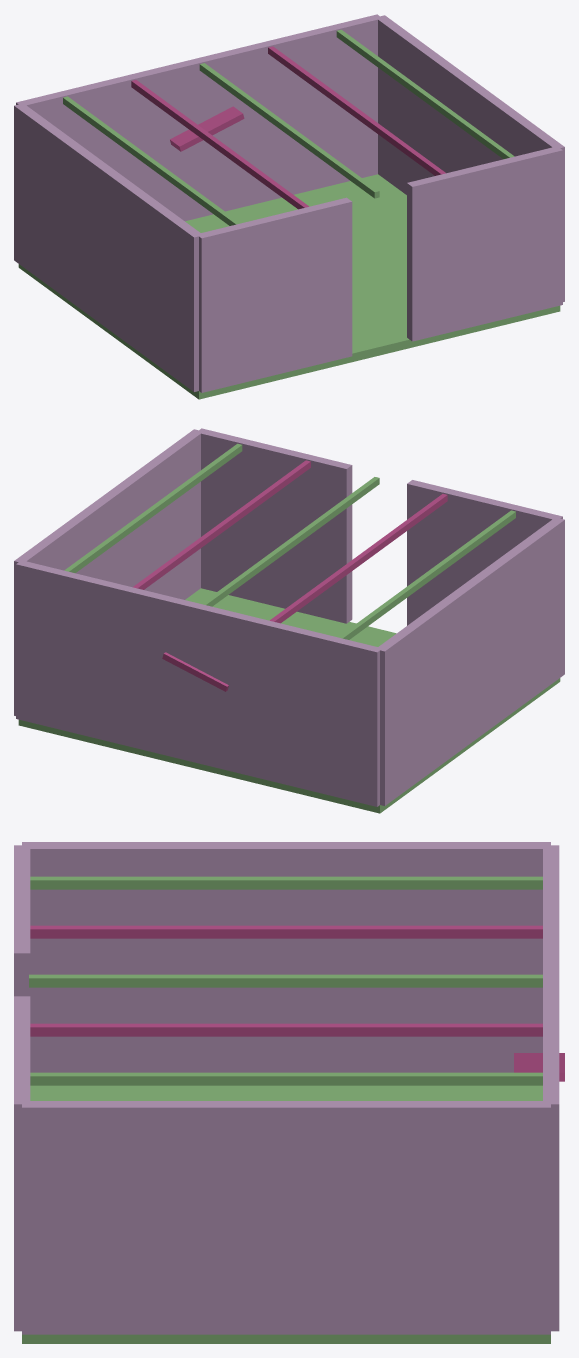
The model's file is fairy_ring_pavilion.glb.
3 renders of one model, top to bottom at view 1: azimuth 30°, elevation 25°; view 2: azimuth 150°, elevation 25°; view 3: azimuth 270°, elevation 25°, orthographic. The views are drawn at different scales.
Parts seen in each view (by area): view 1: wall_north, wall_west, wall_south_right, wall_south_left, wall_east, floor, ceiling_beam_0, ceiling_beam_2, ceiling_beam_-1, ceiling_beam_1, ceiling_beam_-2, purpose_glow_pavilion; view 2: wall_north, wall_west, wall_south_right, wall_east, wall_south_left, floor, ceiling_beam_0, ceiling_beam_2, ceiling_beam_-1, ceiling_beam_1, ceiling_beam_-2, purpose_glow_pavilion; view 3: wall_east, wall_west, floor, ceiling_beam_0, ceiling_beam_-2, ceiling_beam_-1, ceiling_beam_1, ceiling_beam_2, wall_north, wall_south_right, wall_south_left, purpose_glow_pavilion.
Part boxes in pixels (bbox=[...]): wall_north: bbox=[16, 14, 382, 221]; wall_west: bbox=[14, 104, 203, 391]; wall_south_right: bbox=[407, 146, 562, 341]; wall_south_left: bbox=[199, 197, 352, 392]; wall_east: bbox=[377, 15, 564, 301]; floor: bbox=[18, 174, 560, 399]; ceiling_beam_0: bbox=[199, 63, 379, 198]; ceiling_beam_2: bbox=[336, 29, 514, 159]; ceiling_beam_-1: bbox=[131, 80, 308, 209]; ceiling_beam_1: bbox=[268, 46, 445, 175]; ceiling_beam_-2: bbox=[63, 96, 240, 225]; purpose_glow_pavilion: bbox=[170, 106, 244, 151]; wall_north: bbox=[16, 561, 382, 806]; wall_west: bbox=[376, 517, 564, 805]; wall_south_right: bbox=[197, 428, 352, 623]; wall_east: bbox=[14, 429, 203, 715]; wall_south_left: bbox=[407, 480, 562, 625]; floor: bbox=[18, 588, 560, 813]; ceiling_beam_0: bbox=[201, 477, 379, 606]; ceiling_beam_2: bbox=[64, 443, 242, 573]; ceiling_beam_-1: bbox=[270, 494, 447, 623]; ceiling_beam_1: bbox=[133, 460, 310, 589]; ceiling_beam_-2: bbox=[338, 510, 515, 639]; purpose_glow_pavilion: bbox=[162, 652, 228, 691]; wall_east: bbox=[22, 1101, 550, 1334]; wall_west: bbox=[22, 842, 550, 1072]; floor: bbox=[22, 1085, 550, 1343]; ceiling_beam_0: bbox=[29, 974, 542, 987]; ceiling_beam_-2: bbox=[30, 876, 542, 889]; ceiling_beam_-1: bbox=[30, 925, 542, 938]; ceiling_beam_1: bbox=[30, 1023, 542, 1036]; ceiling_beam_2: bbox=[30, 1072, 542, 1085]; wall_north: bbox=[543, 845, 559, 1331]; wall_south_right: bbox=[14, 996, 30, 1331]; wall_south_left: bbox=[14, 845, 30, 996]; purpose_glow_pavilion: bbox=[514, 1053, 564, 1081].
Size of what is drawn, in the model's own units: 13.55 by 5.7 by 11.88.
